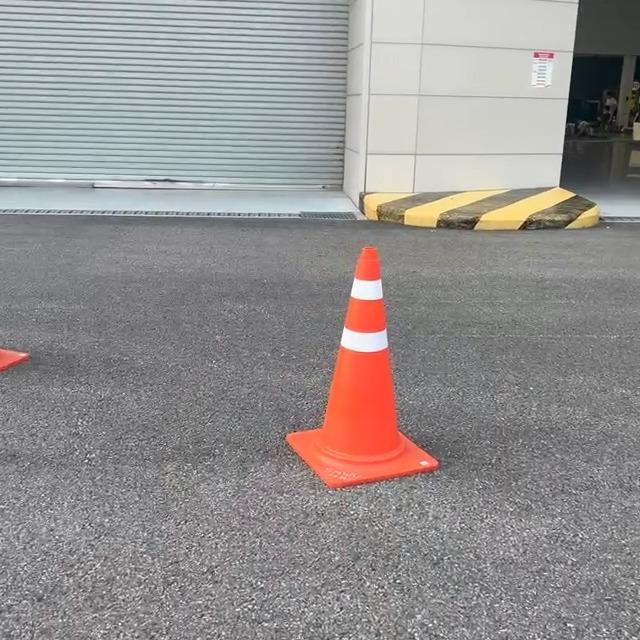fallen_object: (222, 225, 466, 513)
